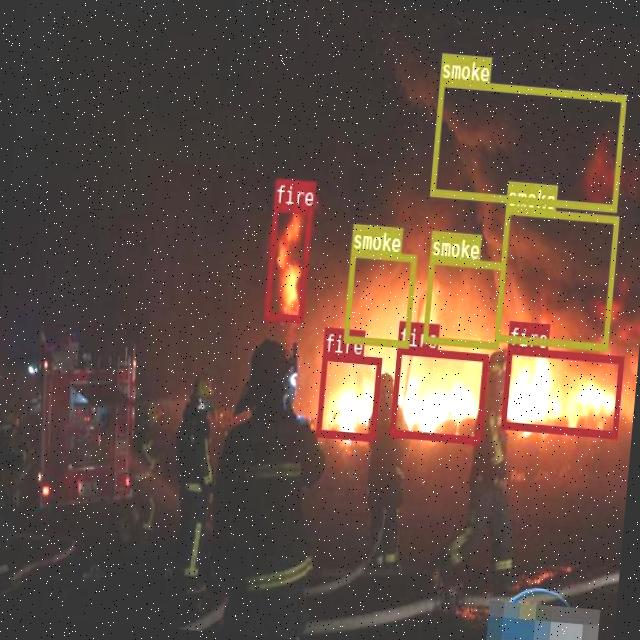fire: (500, 346, 622, 436), (388, 344, 486, 442), (263, 202, 311, 320), (315, 352, 380, 439)
smoke: (430, 78, 624, 210), (493, 206, 618, 348), (422, 255, 504, 348), (342, 248, 416, 347)
